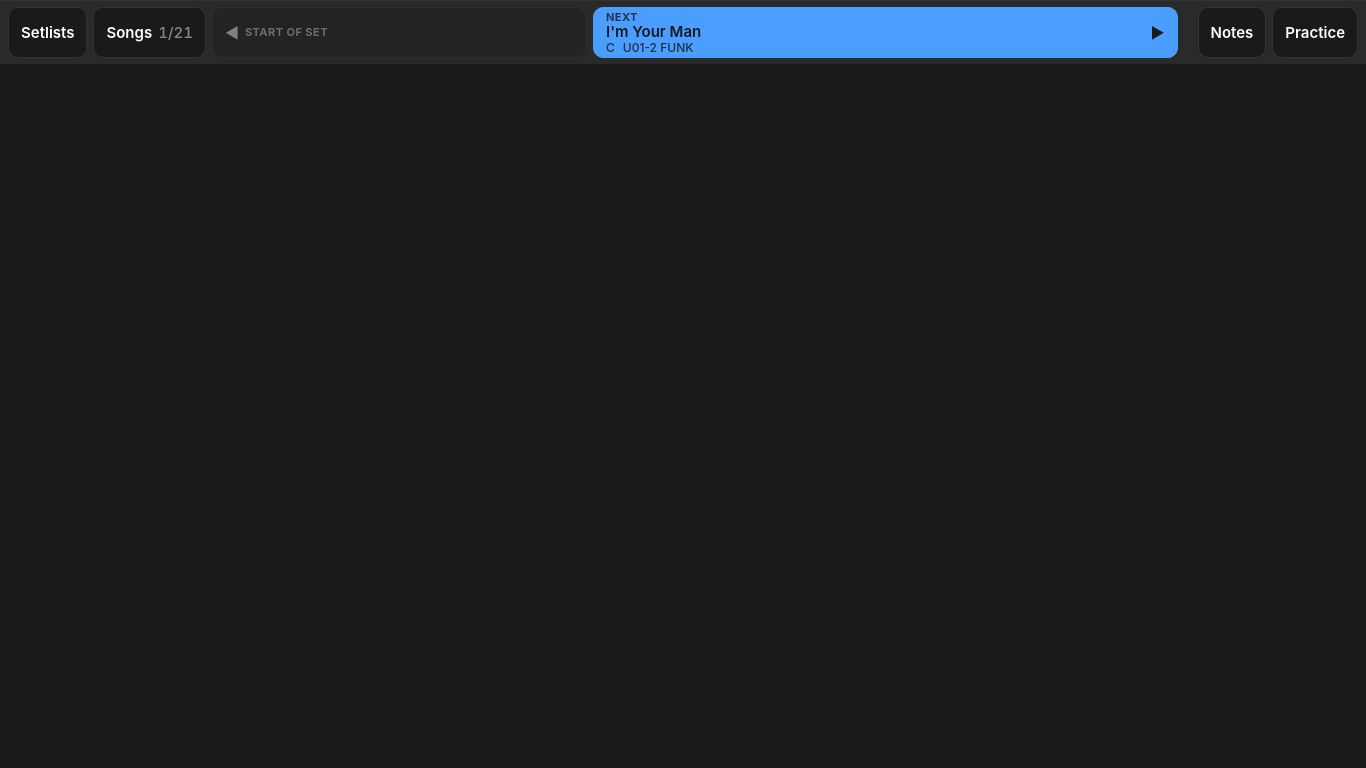
the Notes sheet, on Stage › shows the song's notes
Click the button "Notes" at (1232, 32), box left=1198, top=7, right=1266, bottom=58
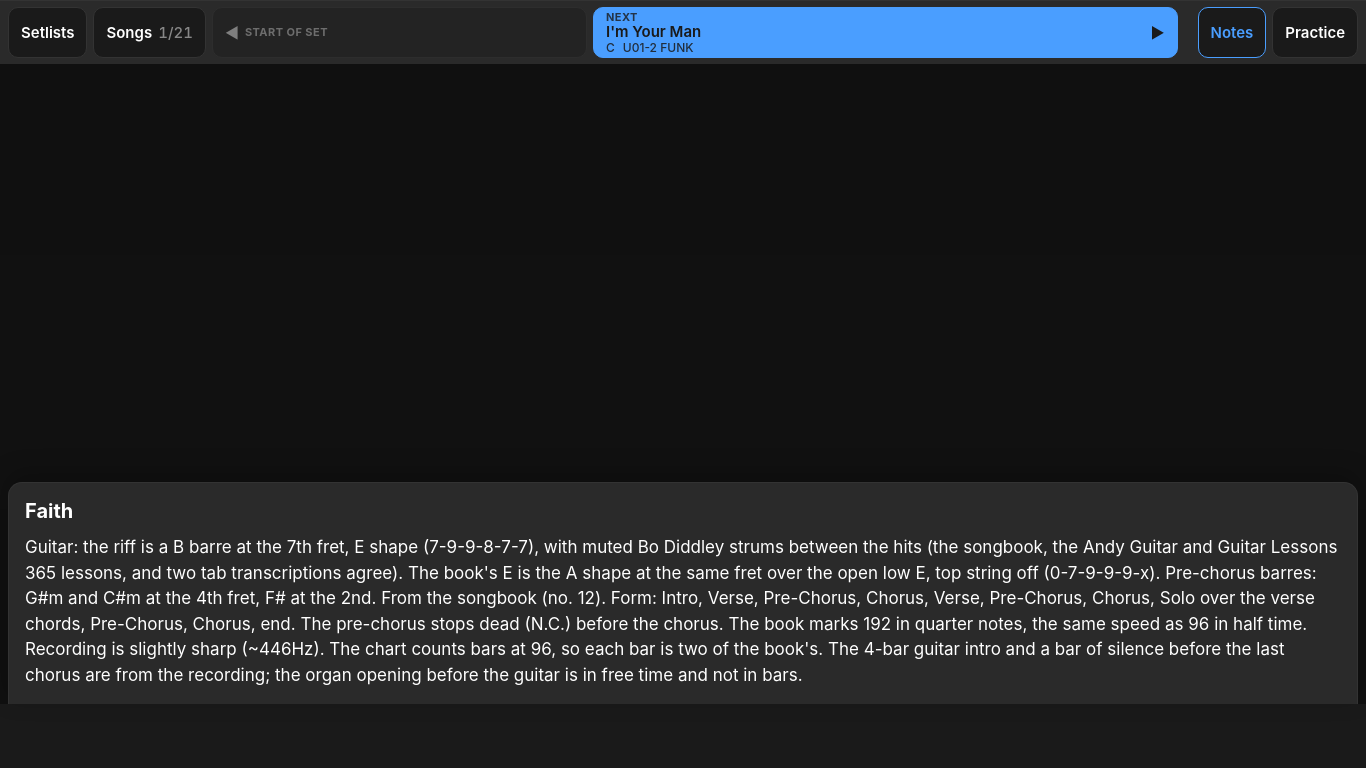
Result: the text "Guitar: the riff is a B barre at the 7th fret, E shape (7-9-9-8-7-7), with muted Bo Diddley strums between the hits (the" is shown at left=25, top=537, right=1342, bottom=684
Result: the button "Notes" is expanded at left=1198, top=7, right=1266, bottom=58
